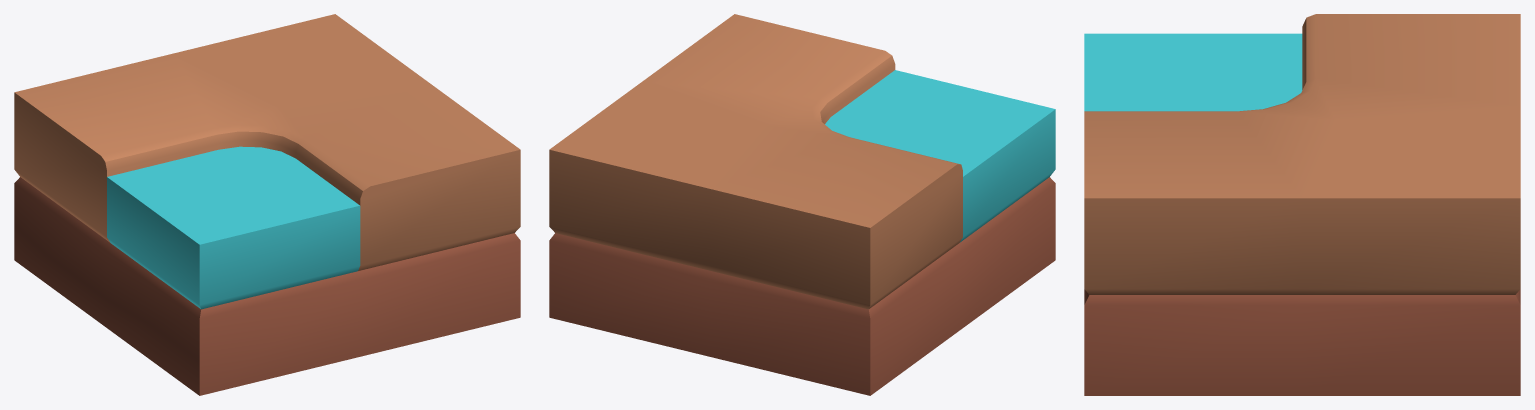
File: square_rock_waterInnerCorner.glb
3 views of the same model, side by side, from view 1: azimuth 30°, elevation 25°; view 2: azimuth 150°, elevation 25°; view 3: azimuth 270°, elevation 25° (orthographic). The views are drawn at different scales.
Visible parts, largest first — view 1: square_rock_waterInnerCorner; view 2: square_rock_waterInnerCorner; view 3: square_rock_waterInnerCorner.
Boxes of the visible parts, x1,y1,x2,y2 form: square_rock_waterInnerCorner: [14, 14, 520, 395]; square_rock_waterInnerCorner: [549, 14, 1055, 395]; square_rock_waterInnerCorner: [1084, 14, 1520, 395].
Bounding box in the file's own units: 3.82 × 1.91 × 3.82.
